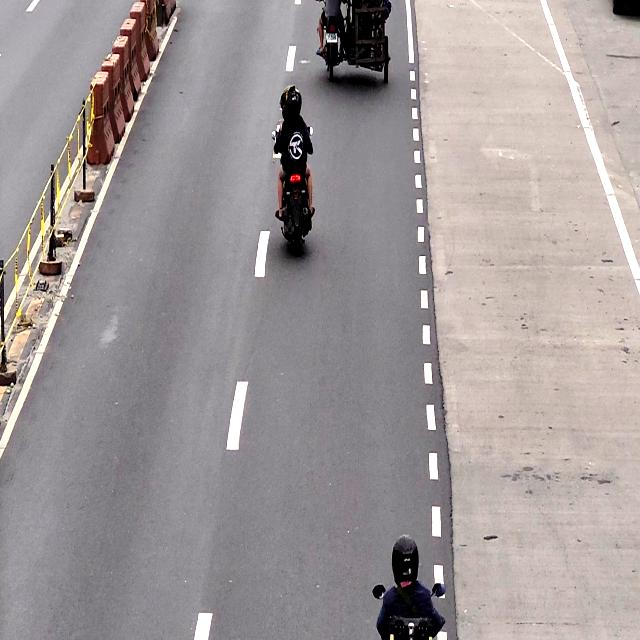License-Plate: (325, 30, 339, 46)
Motorcycle: (272, 84, 315, 257), (370, 537, 442, 640)
Tricycle: (322, 0, 391, 80)
